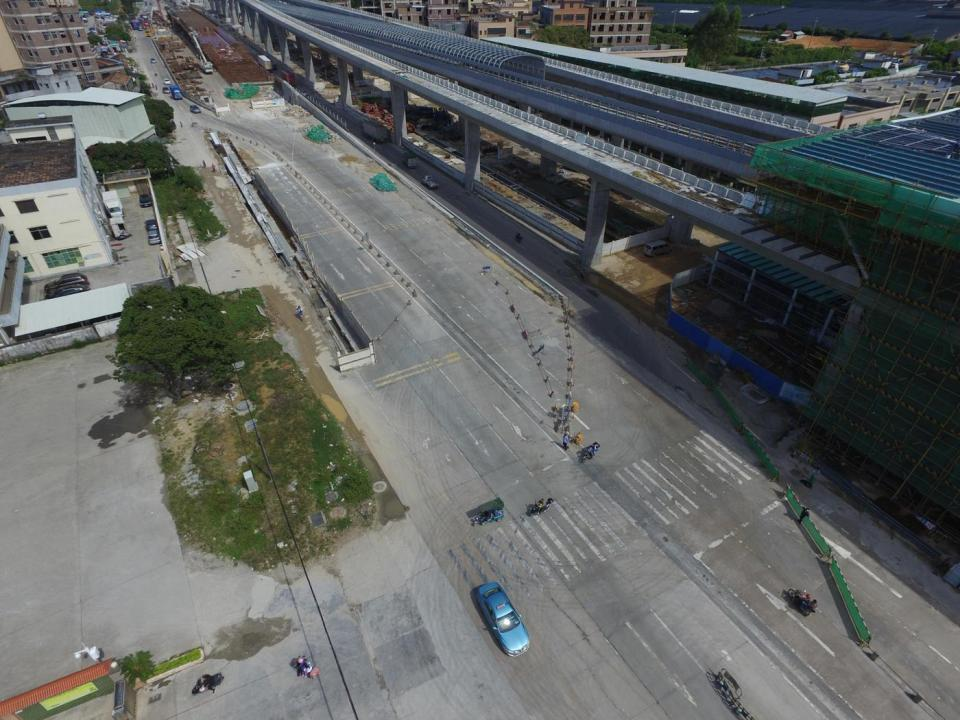car: (475, 581, 528, 656), (45, 283, 89, 301), (45, 273, 87, 291), (147, 230, 162, 245), (139, 195, 152, 208), (145, 220, 156, 233), (190, 105, 199, 113), (300, 90, 308, 97), (163, 78, 170, 84), (162, 87, 169, 93), (150, 57, 156, 63)
truck: (358, 122, 388, 145), (102, 190, 124, 219), (109, 217, 129, 240), (280, 69, 296, 88), (257, 54, 272, 74), (402, 151, 417, 168), (198, 61, 214, 75), (421, 175, 438, 188), (169, 84, 182, 100), (267, 61, 277, 70)
van: (642, 240, 673, 256)
